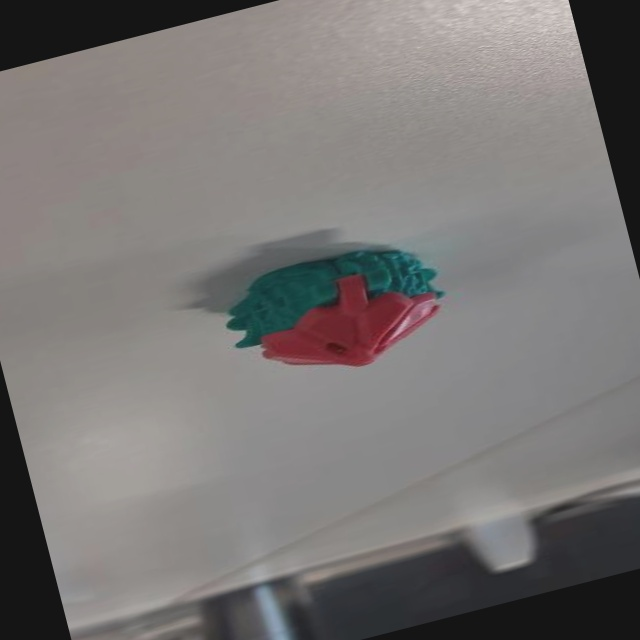House: (203, 226, 469, 406)
